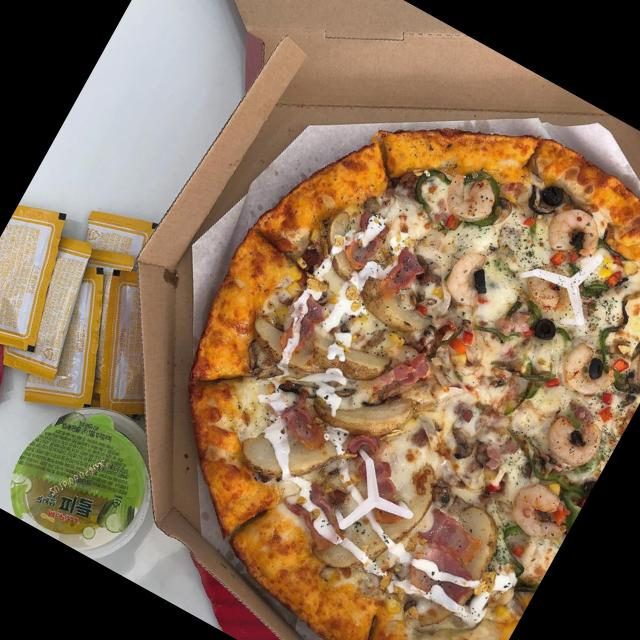black_olives: (532, 175, 574, 218), (464, 260, 503, 302), (525, 312, 563, 351), (580, 352, 612, 388)
peppers: (449, 162, 522, 243), (402, 160, 460, 226)
pizza: (188, 129, 640, 640)
